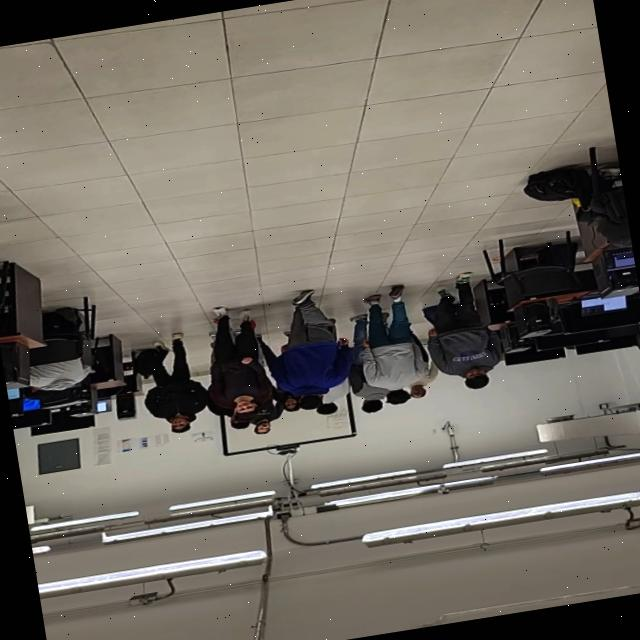Persona: (424, 277, 498, 397), (360, 283, 426, 407), (206, 304, 274, 421), (278, 288, 341, 410), (140, 334, 207, 437), (250, 408, 286, 438), (411, 371, 441, 398), (274, 389, 300, 414)
